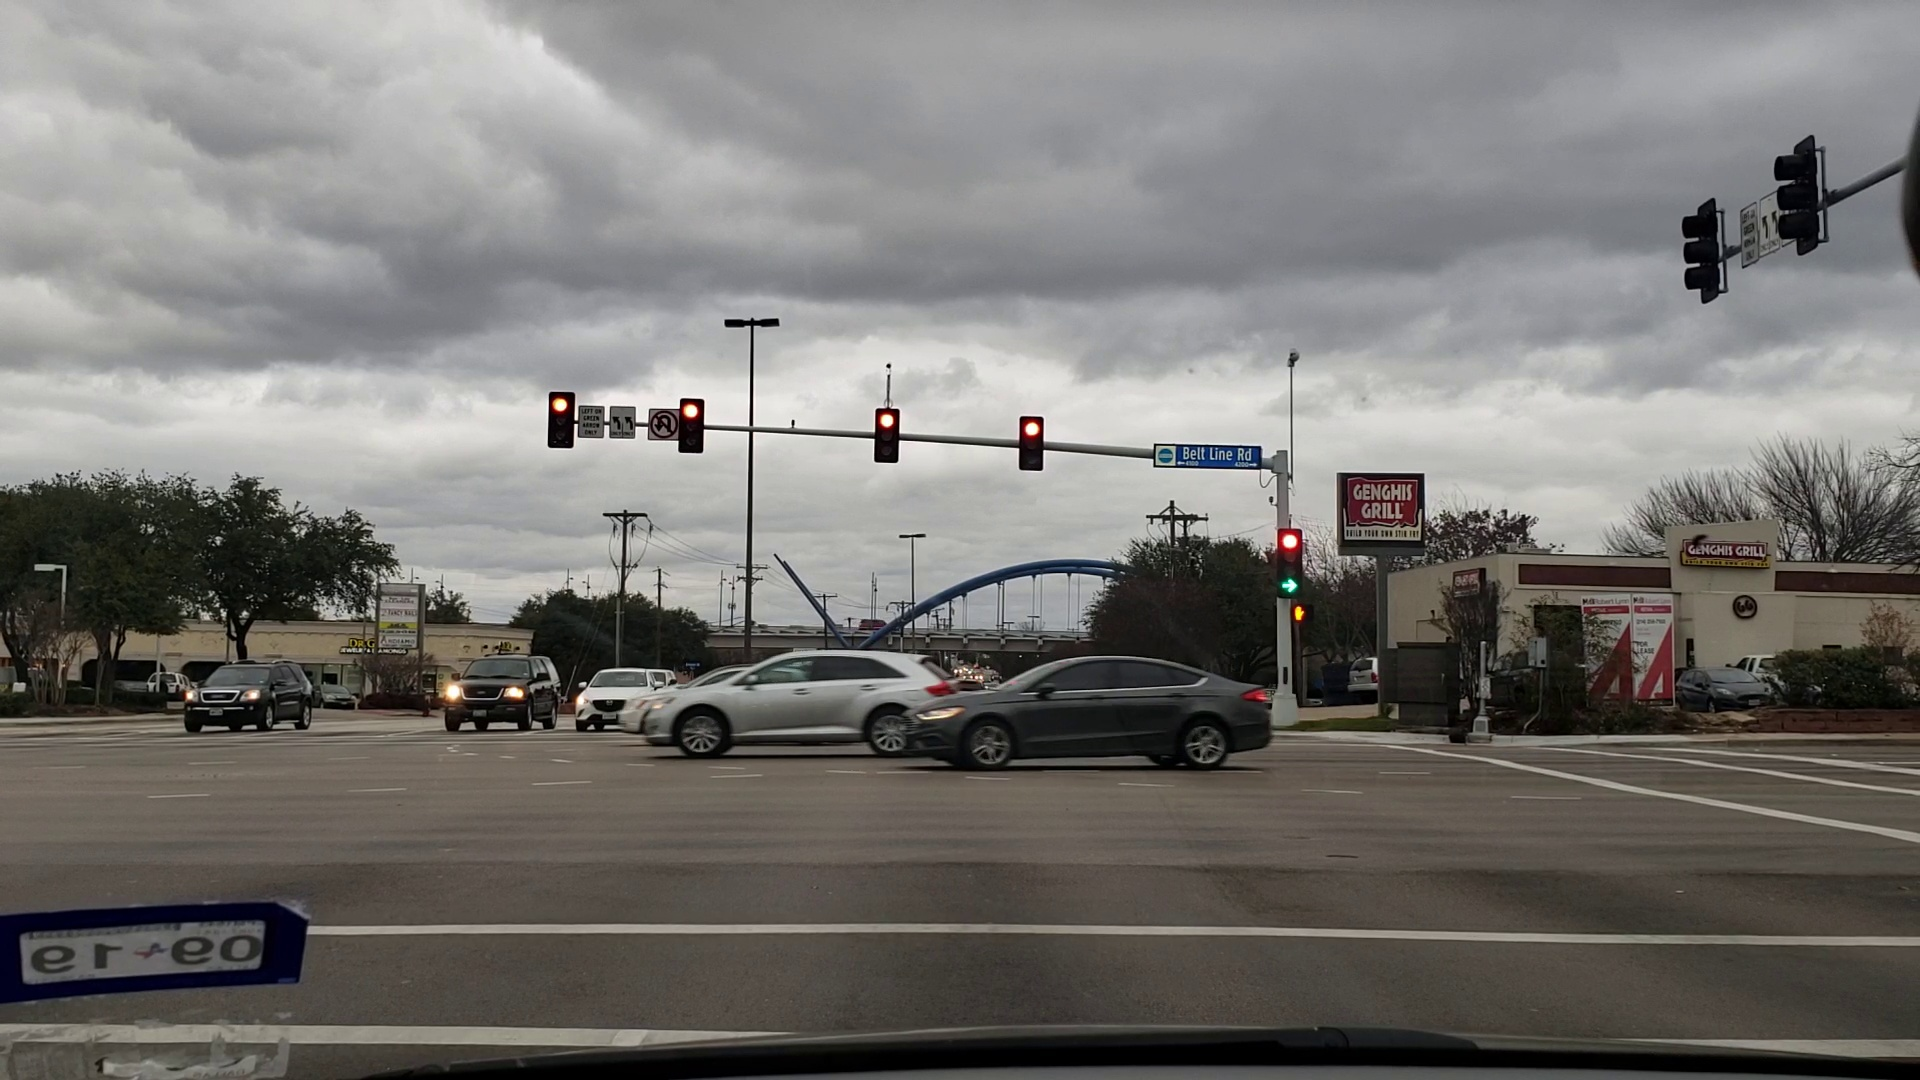car: (909, 659, 1279, 781), (644, 646, 961, 754), (179, 658, 324, 738), (438, 655, 566, 735), (1669, 657, 1767, 723), (568, 665, 662, 731), (1725, 634, 1803, 713), (140, 666, 193, 711), (1346, 650, 1382, 694), (315, 680, 371, 707)
traffic light: (1771, 152, 1808, 247), (1685, 204, 1720, 298), (678, 394, 705, 451), (1280, 527, 1302, 601), (1017, 409, 1042, 469), (551, 388, 575, 447), (873, 407, 898, 459)
